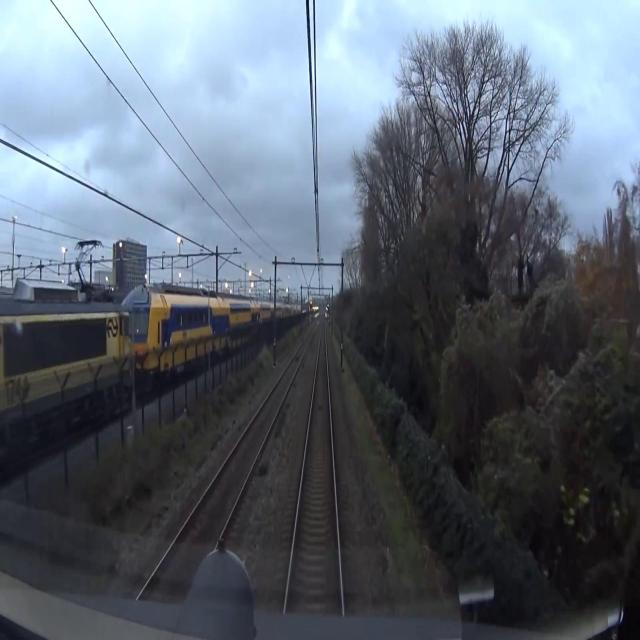rail-track: (115, 328, 313, 639), (283, 324, 341, 639)
